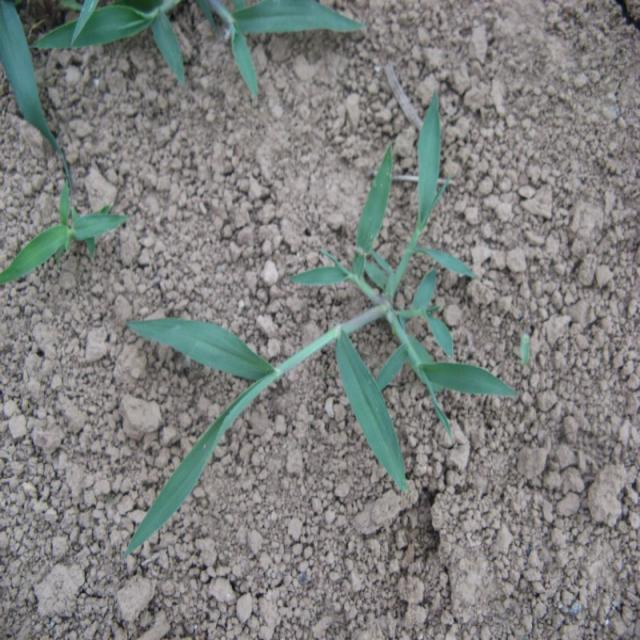bg: (125, 88, 518, 546)
